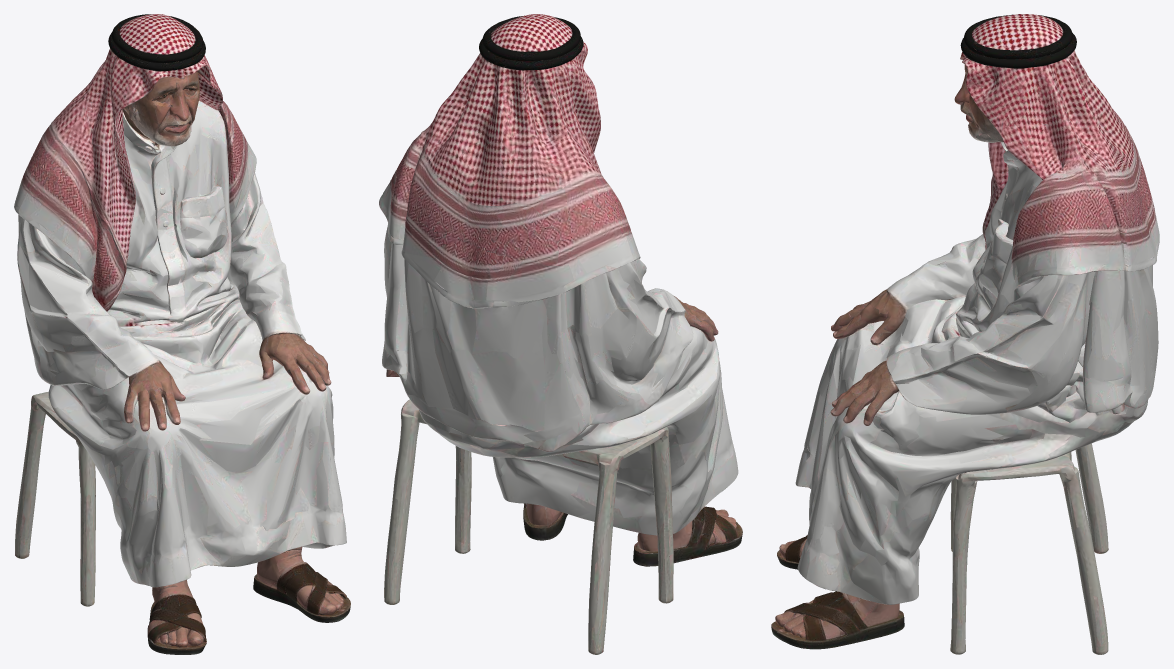
The model's file is father.glb.
The picture shows the model from 3 angles, left to right: view 1: azimuth 30°, elevation 25°; view 2: azimuth 150°, elevation 25°; view 3: azimuth 270°, elevation 25°; orthographic projection. The views are drawn at different scales.
Visible parts, largest first — view 1: Mesh_0; view 2: Mesh_0; view 3: Mesh_0.
Part boxes in pixels (x1,y1,x2,y2): Mesh_0: [14, 14, 350, 654]; Mesh_0: [379, 14, 742, 654]; Mesh_0: [771, 14, 1159, 654].
Bounding box in the file's own units: 0.8998 × 1.9 × 1.14.
Materials: 1 (1 with a texture image).
